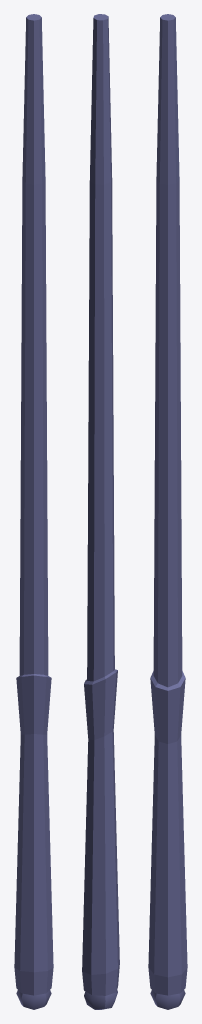
The model's file is wand.FBX.
3 renders of one model, left to right at view 1: azimuth 90°, elevation 25°; view 2: azimuth 150°, elevation 25°; view 3: azimuth 270°, elevation 25°, orthographic.
Visible parts, largest first — view 1: wand_body, wand_ball; view 2: wand_body, wand_ball; view 3: wand_body, wand_ball.
Boxes of the visible parts, <box> form: wand_body: <box>14,14,53,995</box>; wand_ball: <box>16,990,51,1009</box>; wand_body: <box>82,14,119,995</box>; wand_ball: <box>84,990,117,1009</box>; wand_body: <box>148,14,187,995</box>; wand_ball: <box>150,990,185,1009</box>.
Size of the model in its own units: 0.1108 by 3.1 by 0.1108.
